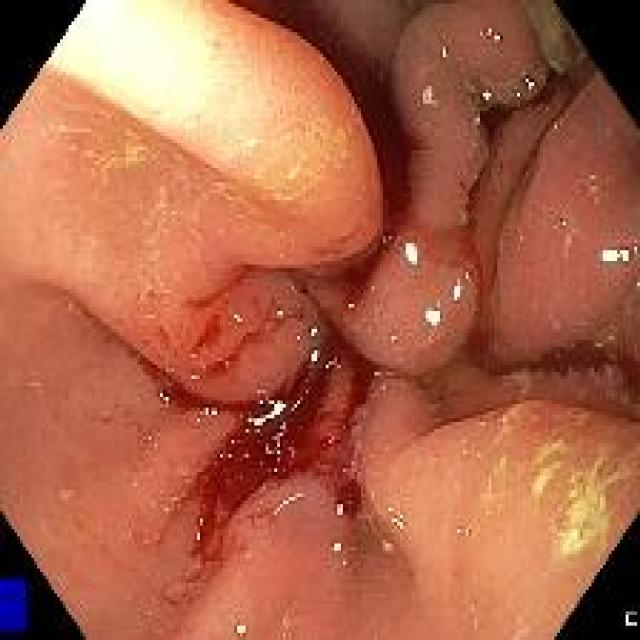blood: (157, 331, 393, 533), (267, 9, 408, 273)
color misalignment: (0, 579, 27, 633)
saturation: (46, 0, 343, 203)
specularity: (265, 486, 308, 521), (245, 394, 286, 430), (421, 300, 446, 338), (482, 20, 509, 50), (186, 518, 207, 553), (511, 72, 536, 100), (387, 501, 408, 534), (192, 397, 218, 423), (324, 538, 345, 570), (397, 241, 421, 268), (302, 343, 324, 372), (600, 245, 631, 265), (265, 443, 284, 473), (266, 300, 288, 324), (444, 277, 463, 302), (331, 496, 348, 523), (156, 382, 172, 410), (227, 307, 247, 329), (553, 210, 571, 232), (474, 82, 492, 104), (364, 484, 382, 506), (437, 39, 451, 65), (302, 318, 320, 338), (229, 619, 250, 635), (324, 357, 338, 373), (274, 422, 287, 439), (456, 525, 473, 536), (632, 243, 638, 258), (346, 302, 355, 311), (367, 324, 376, 333), (551, 119, 558, 130), (342, 465, 349, 476), (516, 233, 524, 242), (390, 332, 397, 342), (374, 369, 380, 378), (328, 437, 334, 443)
